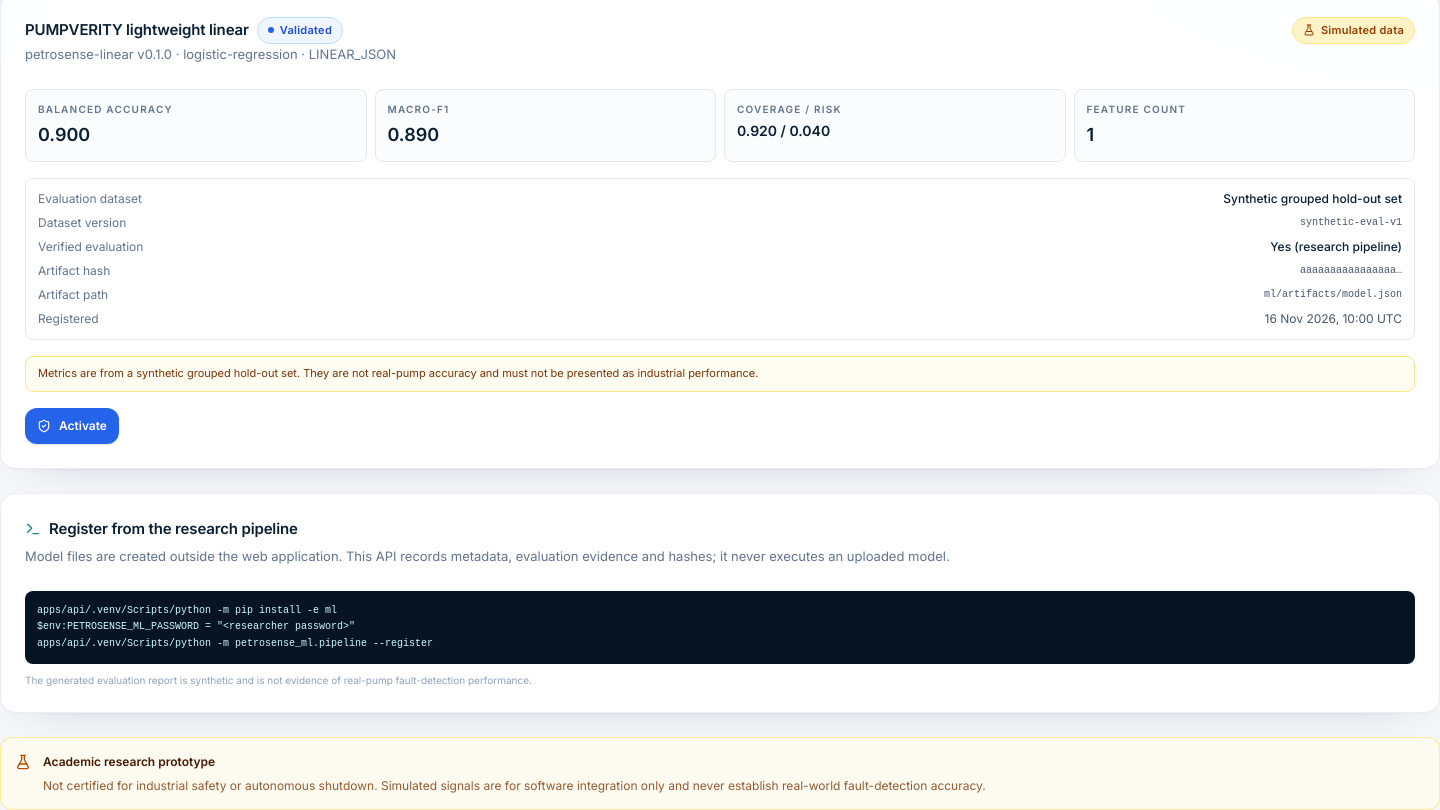
Scenario: ModelsPage › activates a validated model through the API
The image size is (1440, 810).
(page scrolled)
Step 1. Click the button "Activate" → (72, 426), box [25,408,119,444]
(page scrolled)
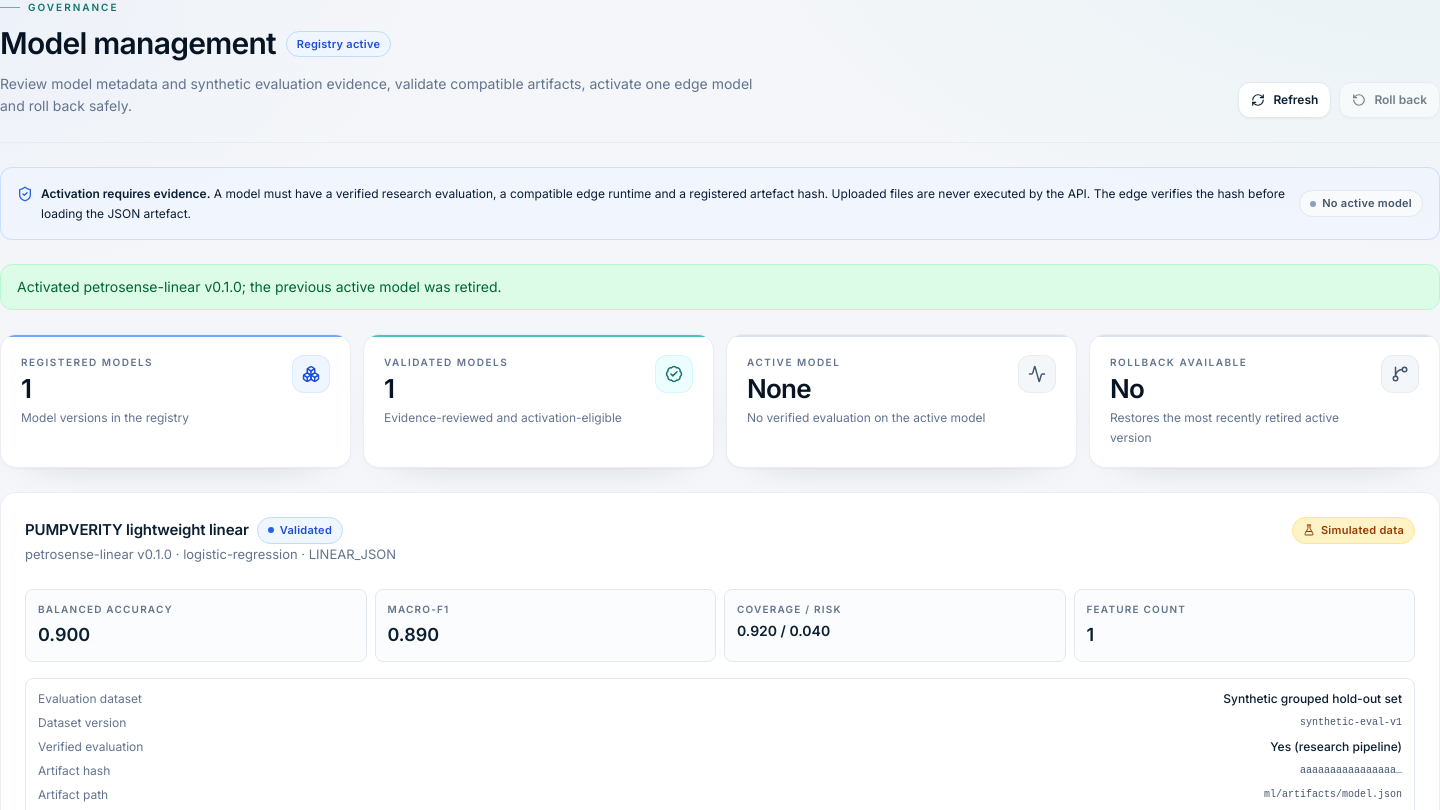
Result: the text "Activated petrosense-linear" is shown at [17,278,502,295]
